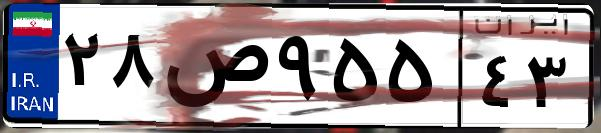2: (57, 26, 110, 100)
3: (525, 38, 570, 115)
4: (475, 38, 525, 113)
5: (385, 28, 445, 110), (330, 28, 385, 110)
8: (110, 28, 158, 98)
9: (270, 28, 330, 110)
ص: (158, 20, 270, 120)
